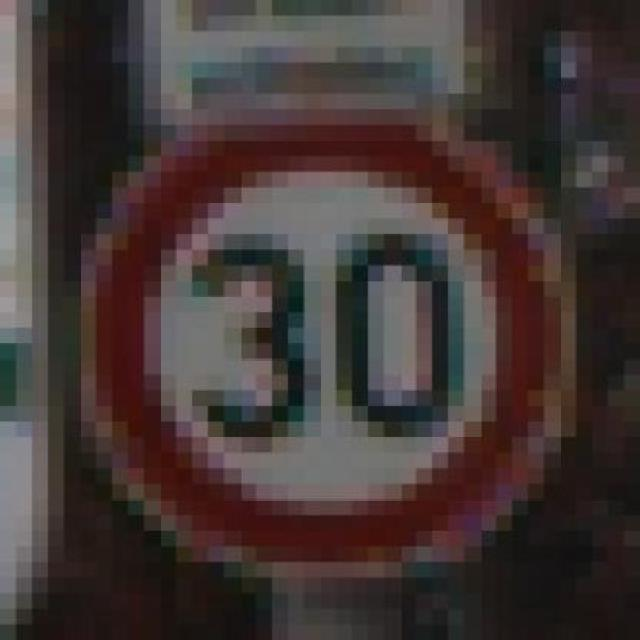forb_speed_over_30: (83, 116, 555, 570)
